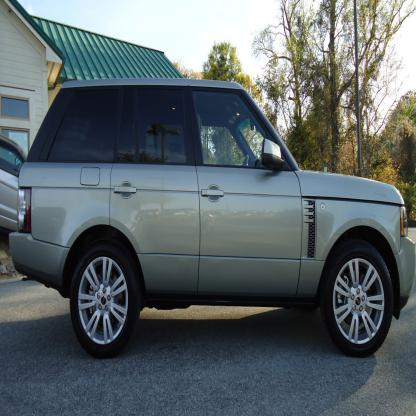Vehicle: (8, 77, 416, 360)
